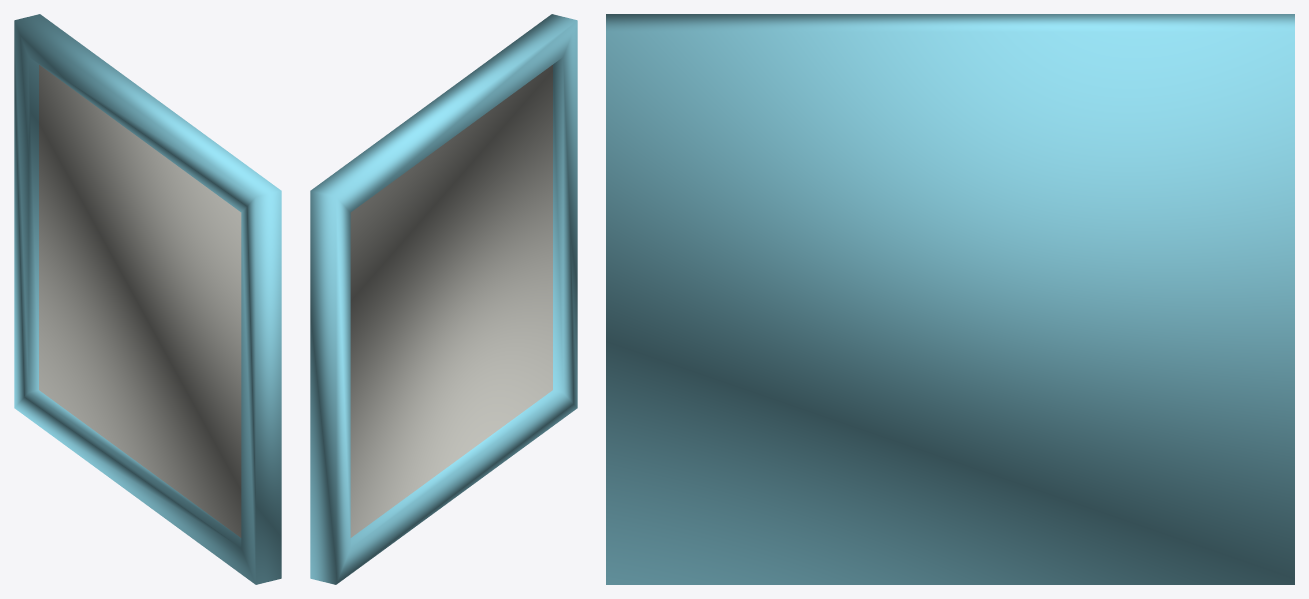
The model's file is Mirror.fbx.
3 renders of one model, left to right at view 1: azimuth 30°, elevation 25°; view 2: azimuth 150°, elevation 25°; view 3: azimuth 270°, elevation 25°, orthographic. The views are drawn at different scales.
Visible parts, largest first — view 1: Cube.8233; view 2: Cube.8233; view 3: Cube.8233.
Boxes of the visible parts, x1=… form: Cube.8233: x1=14, y1=14, x2=281, y2=584; Cube.8233: x1=310, y1=14, x2=577, y2=584; Cube.8233: x1=606, y1=14, x2=1294, y2=584.
Bounding box in the file's own units: 6.35 × 91.27 × 103.
1 material, 1 textured.
